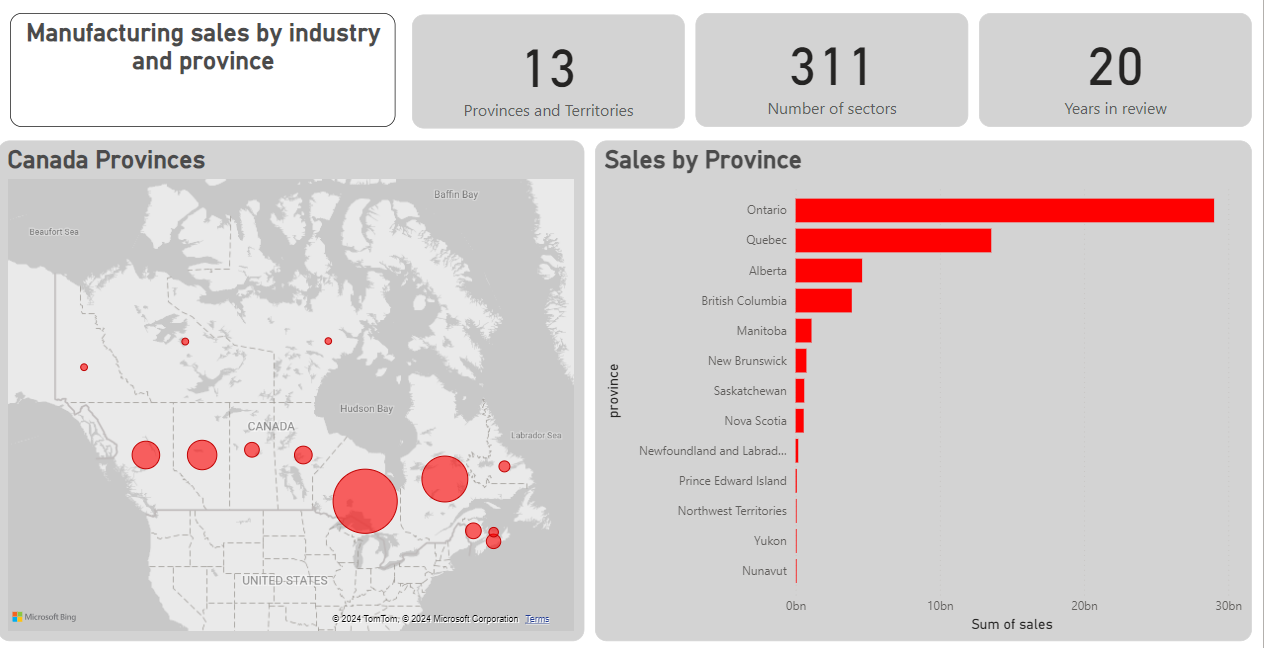

This screenshot's page, from the dashboard's own definition file:
{"tool":"powerbi","page":{"name":"Page 1","canvas":[1280,720],"ordinal":0},"visuals":[{"type":"card","title":"Provinces","fields":{"Values":["Count(public dim_province.name)"]},"box":[418.9,65.3,276.2,115.4],"z":0},{"type":"card","fields":{"Values":["Min(public dim_naics.id)"]},"box":[705.8,63.7,276.2,115.4],"z":1000},{"type":"card","fields":{"Values":["Count(public fact_sales.date_sales.Variation.Date Hierarchy.Year)"]},"box":[992.6,63.7,276.2,115.4],"z":2000},{"type":"map","title":"Canada Provinces","fields":{"Category":["public dim_province.name"],"Y":["Min(public dim_province.latitude)"],"X":["Min(public dim_province.longitude)"],"Size":["Sum(public fact_sales.value)"]},"box":[0,192.8,593.5,506.9],"z":3000},{"type":"barChart","title":"Sales by Province ","fields":{"Category":["public dim_province.name"],"Y":["Sum(public fact_sales.value)"]},"box":[604.1,192.8,664.8,506.9],"z":4000},{"type":"textbox","title":"Manufacturing sales by industry and province","box":[12.1,63.7,390.1,115.4],"z":5000}]}

Visuals, with their boxes on the page's 1280x720 design canvas (x1, y1, x2, y2). These are canvas units, not pixel positions in the 1266x648 screenshot, which may show the page scaled, cropped or inside an application window:
"Provinces" card: bbox=(419, 65, 695, 181)
card - Min(public dim_naics.id): bbox=(706, 64, 982, 179)
card - Count(public fact_sales.date_sales.Variation.Date Hierarchy.Year): bbox=(993, 64, 1269, 179)
"Canada Provinces" map: bbox=(0, 193, 594, 700)
"Sales by Province " barChart: bbox=(604, 193, 1269, 700)
"Manufacturing sales by industry and province" textbox: bbox=(12, 64, 402, 179)
